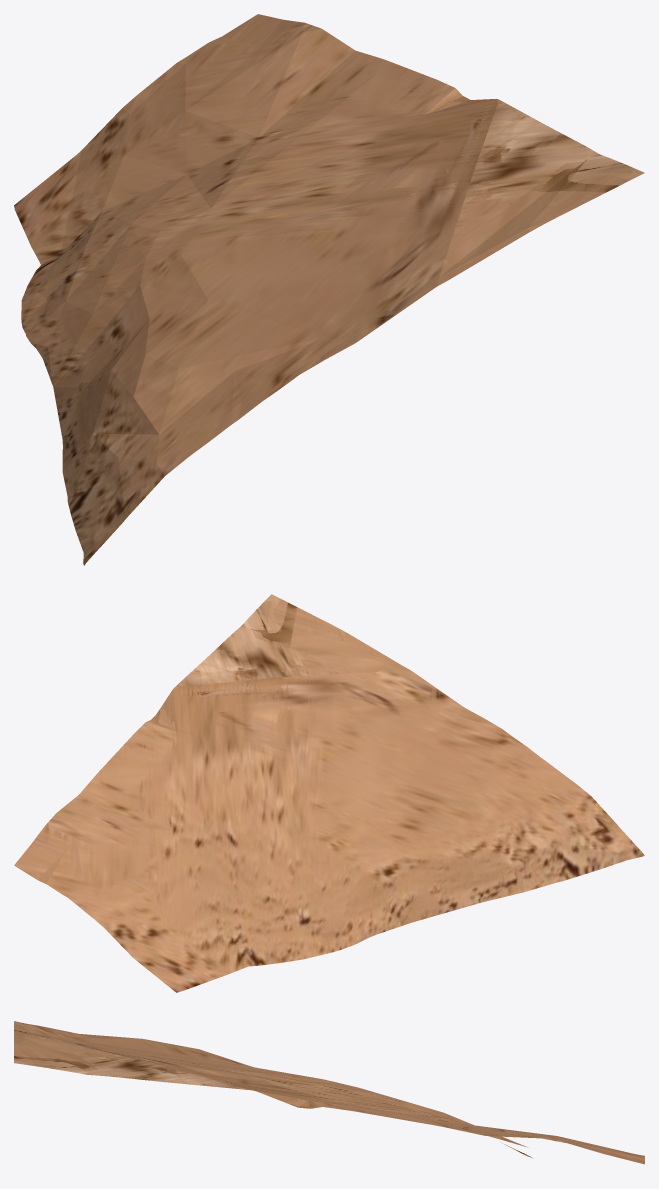
3 views of the same model, one above another, from view 1: azimuth 30°, elevation 25°; view 2: azimuth 150°, elevation 25°; view 3: azimuth 270°, elevation 25° (orthographic). The views are drawn at different scales.
Bounding box in the file's own units: 0.8739 × 0.3815 × 1.04.
Materials: 2 (2 with a texture image).
